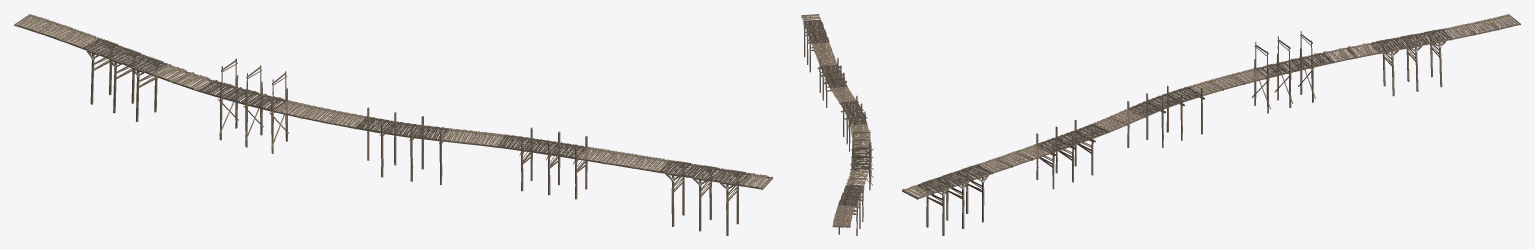
Rendered from SM_Gangway_02_Splines_29.FBX.
The picture shows the model from 3 angles, left to right: view 1: azimuth 30°, elevation 25°; view 2: azimuth 150°, elevation 25°; view 3: azimuth 270°, elevation 25°; orthographic projection. The views are drawn at different scales.
Visible parts, largest first — view 1: SM_Gangway_02_Splines_29_LOD0; view 2: SM_Gangway_02_Splines_29_LOD0; view 3: SM_Gangway_02_Splines_29_LOD0.
Boxes of the visible parts, box(x1,y1,x2,y2) form: SM_Gangway_02_Splines_29_LOD0: box(14, 14, 772, 235); SM_Gangway_02_Splines_29_LOD0: box(801, 14, 873, 235); SM_Gangway_02_Splines_29_LOD0: box(902, 14, 1520, 235).
Size of the model in its own units: 6650 by 9747 by 1261.
